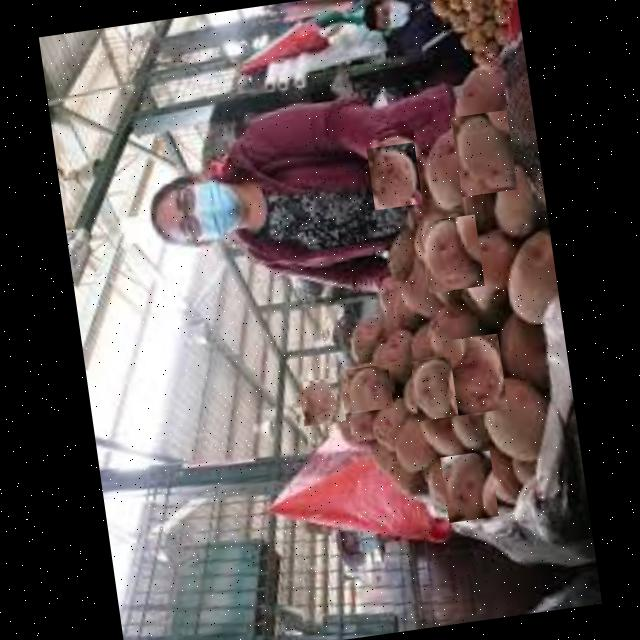Defected potato: (476, 367, 550, 467), (497, 232, 562, 326), (451, 109, 518, 196), (442, 332, 508, 416), (420, 214, 484, 292), (440, 450, 499, 522), (367, 141, 422, 209), (411, 355, 458, 420), (346, 363, 394, 412), (298, 376, 346, 425)
